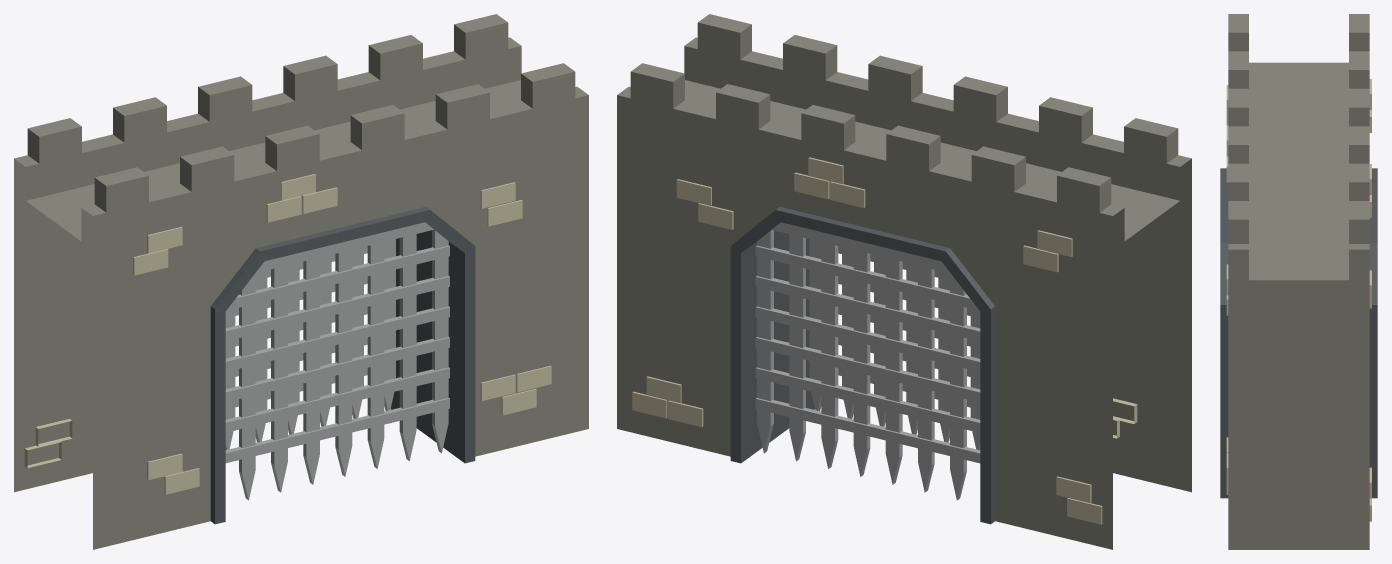
Rendered from Gates.fbx.
3 views of the same model, side by side, from view 1: azimuth 30°, elevation 25°; view 2: azimuth 150°, elevation 25°; view 3: azimuth 270°, elevation 25° (orthographic). The views are drawn at different scales.
Parts seen in each view (by area): view 1: Gates, Gate_1, Gate_2; view 2: Gates, Gate_2, Gate_1; view 3: Gates.
Part boxes in pixels (x1,y1,x2,y2): Gates: (14,14,588,549); Gate_1: (225,222,449,500); Gate_2: (225,239,395,449); Gates: (617,14,1191,549); Gate_2: (755,222,980,500); Gate_1: (809,239,980,450); Gates: (1220,14,1377,549).
Bounding box in the file's own units: 233 × 162 × 71.15.
Materials: 1 (1 with a texture image).
